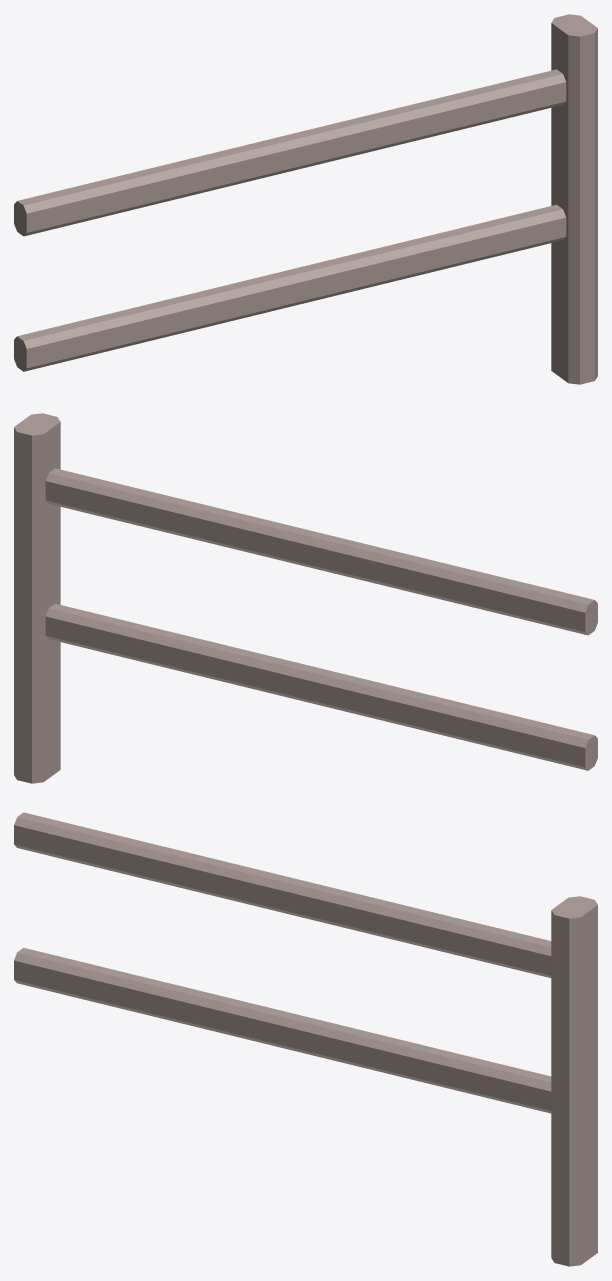
Rendered from 木の柵複製用.fbx.
3 views of the same model, one above another, from view 1: azimuth 30°, elevation 25°; view 2: azimuth 150°, elevation 25°; view 3: azimuth 330°, elevation 25° (orthographic).
Visible parts, largest first — view 1: Body; view 2: Body; view 3: Body.
Boxes of the visible parts, <box> form: Body: <box>14,14,597,384</box>; Body: <box>14,413,597,783</box>; Body: <box>14,812,597,1266</box>.
Size of the model in its own units: 154 by 90 by 12.
